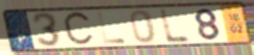0: (128, 9, 158, 46)
3: (32, 11, 61, 49)
8: (193, 7, 222, 42)
C: (61, 10, 96, 49)
L: (159, 8, 193, 44), (95, 11, 127, 45)
